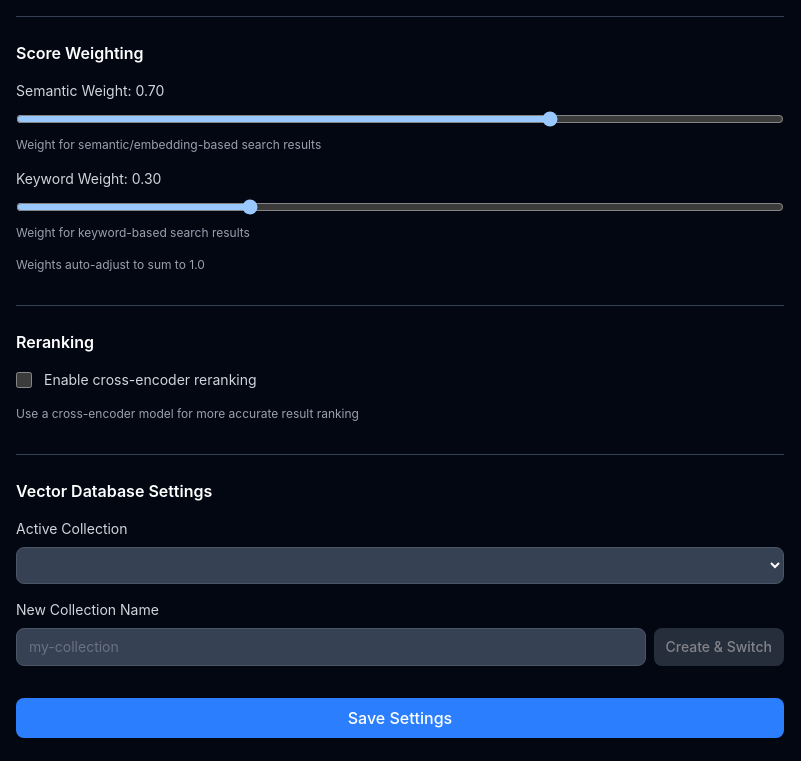
Test: mergeCollections staleness › blocks_save_when_collection_name_is_stale
(page scrolled)
Note: Click Save Settings
Click the button "Save Settings" at (400, 718), box [16, 698, 784, 738]
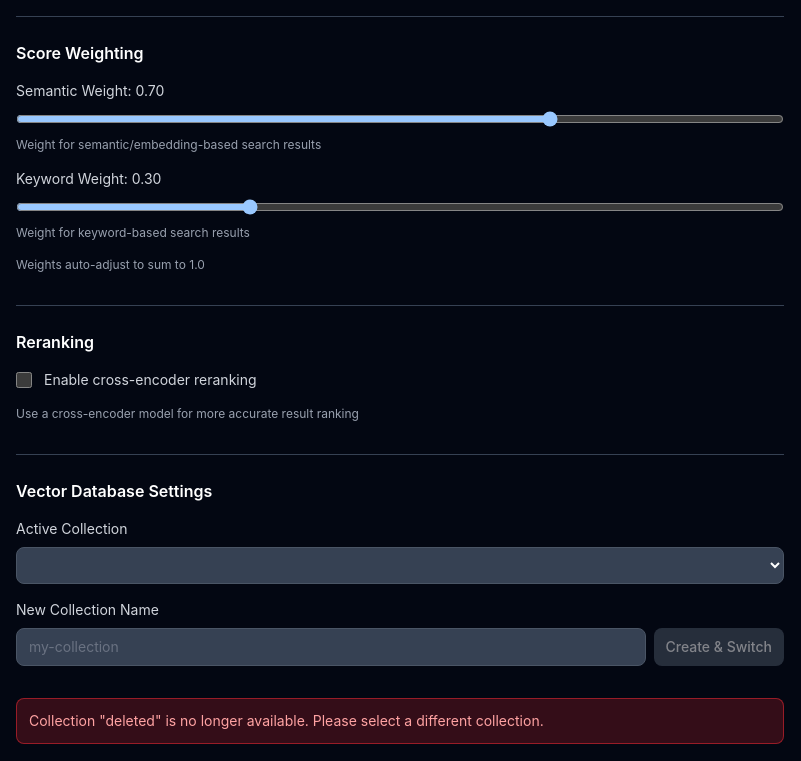
Expected: the text "no longer available" is shown, [29, 712, 544, 729]
